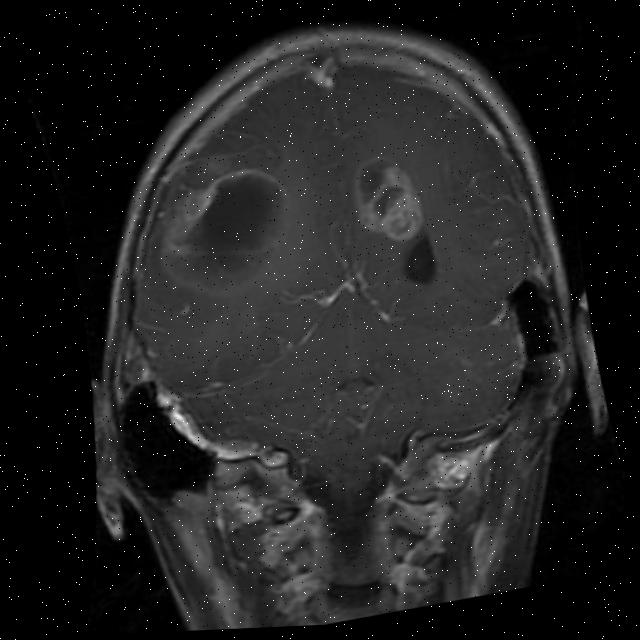Glioma: (149, 160, 304, 305), (350, 150, 430, 250)
